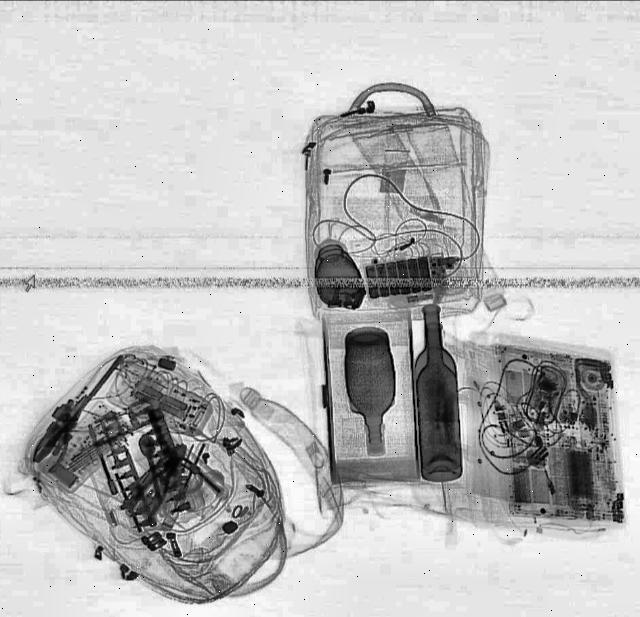Pliers: (120, 436, 202, 522), (24, 390, 100, 476)
